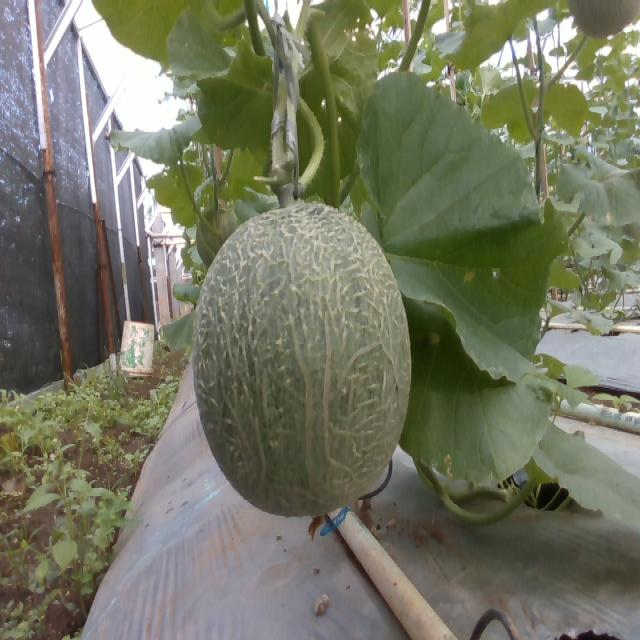melon: (193, 203, 412, 517)
